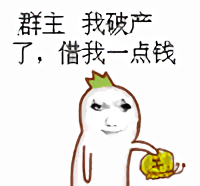dragon: (91, 99, 132, 136)
